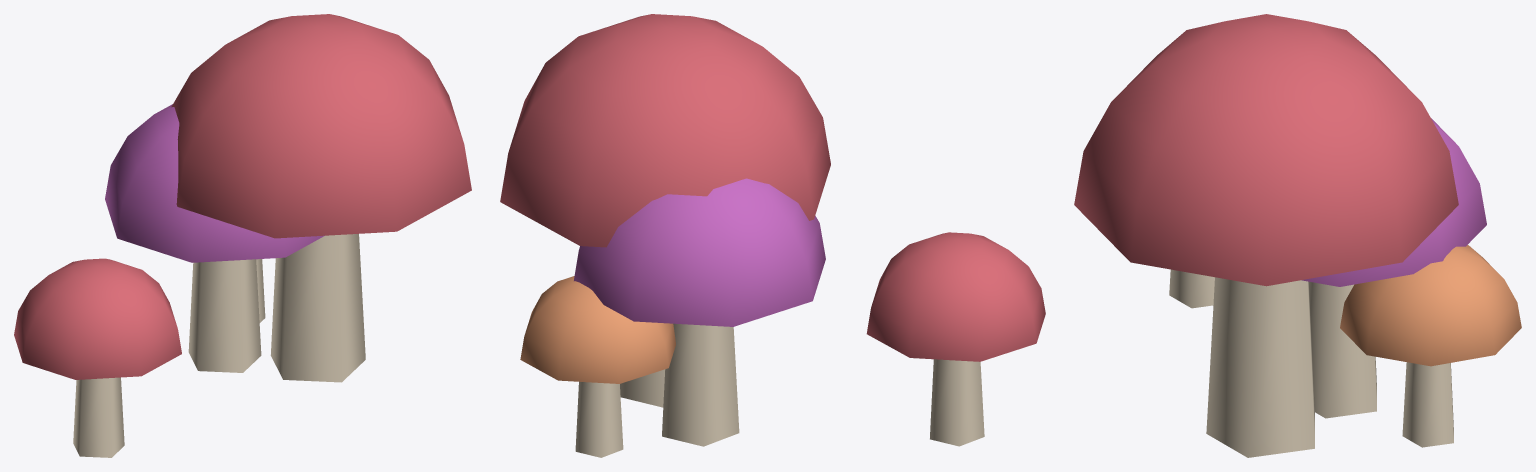
File: mushrooms.glb
3 renders of one model, left to right at view 1: azimuth 30°, elevation 25°; view 2: azimuth 150°, elevation 25°; view 3: azimuth 270°, elevation 25°, orthographic. The views are drawn at different scales.
Bounding box in the file's own units: 1.37 × 0.9708 × 0.9633.
